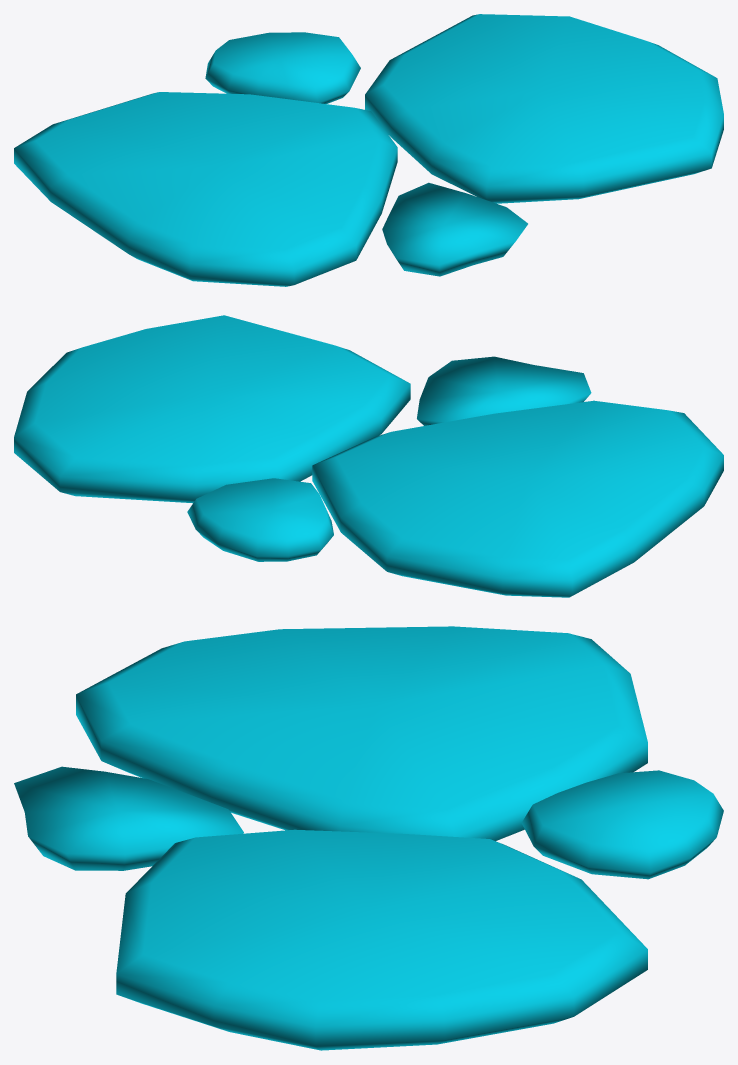
File: Bstone5.fbx
The picture shows the model from 3 angles, top to bottom: view 1: azimuth 30°, elevation 25°; view 2: azimuth 150°, elevation 25°; view 3: azimuth 270°, elevation 25°; orthographic projection. The views are drawn at different scales.
Visible parts, largest first — view 1: 5_set_stones_lowpoly.001; view 2: 5_set_stones_lowpoly.001; view 3: 5_set_stones_lowpoly.001.
Boxes of the visible parts, <box> form: 5_set_stones_lowpoly.001: <box>14,14,723,286</box>; 5_set_stones_lowpoly.001: <box>14,315,723,597</box>; 5_set_stones_lowpoly.001: <box>14,626,723,1050</box>.
Size of the model in its own units: 248 by 14.26 by 188.
